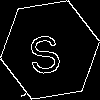S: (25, 25, 64, 76)
